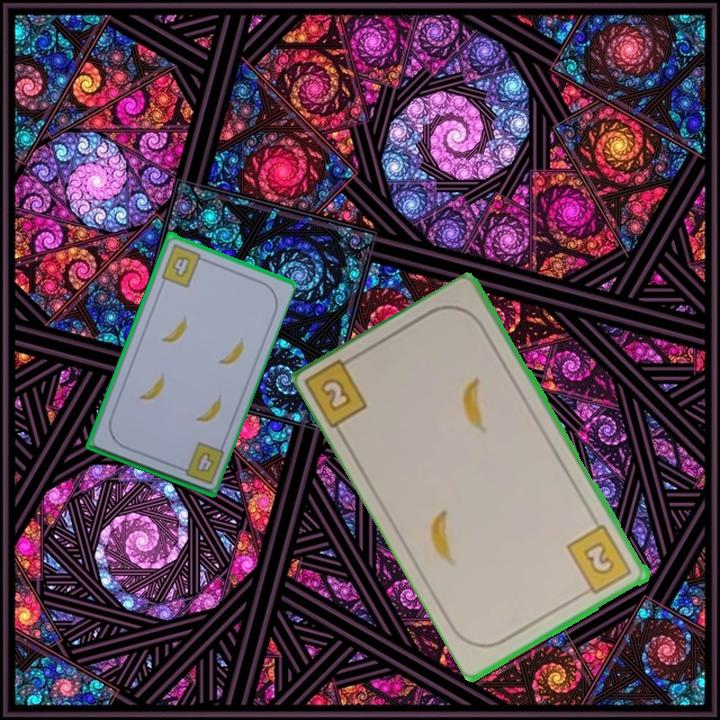2b: (304, 350, 371, 433), (564, 521, 635, 599)
4b: (157, 240, 209, 290), (194, 448, 217, 475)
